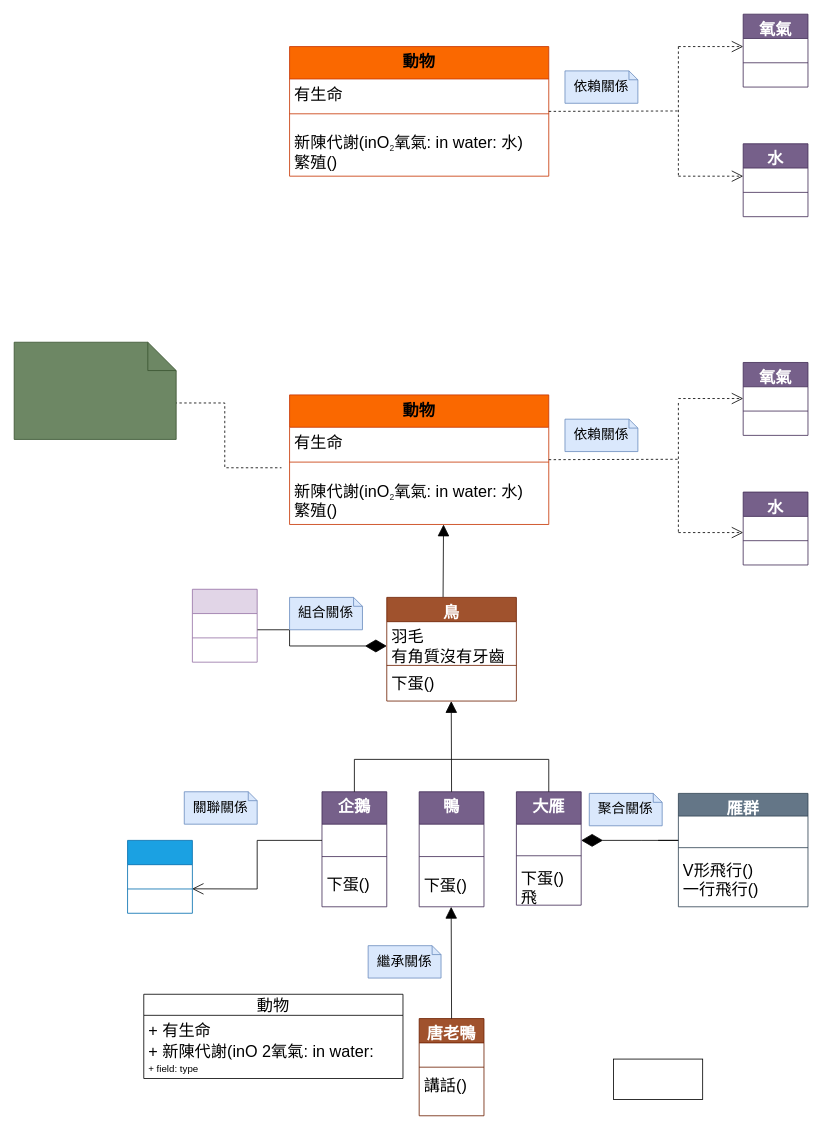
Some shapes in this 822 by 1132 pixel diagram are drawn without their labels. The centre of each missing label's shape, as x and y in pixels:
"«interface» 飛翔" goes at pixel 658 1079.
"氣候" goes at pixel 159 876.
"翅膀" goes at pixel 224 625.
"類 第一行:類名稱 第二行:屬性 第三行:方法 類名為斜體字則為抽象類" goes at pixel 94 390.
